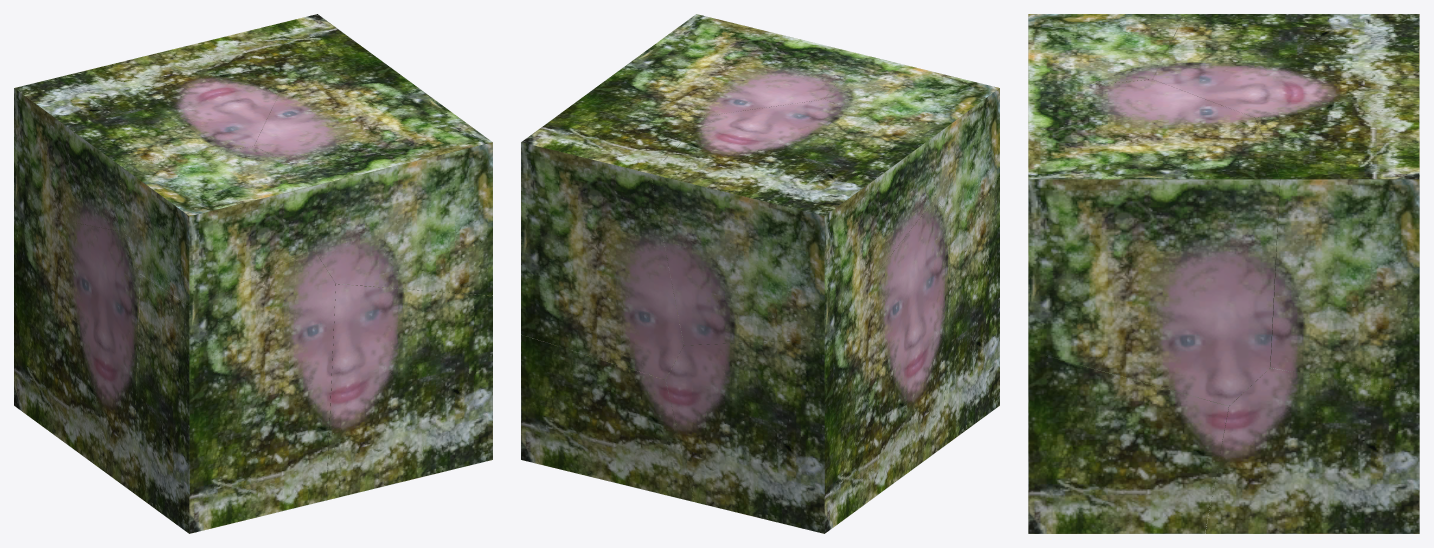
The model's file is guck_cube_pieces.glb.
3 views of the same model, side by side, from view 1: azimuth 30°, elevation 25°; view 2: azimuth 150°, elevation 25°; view 3: azimuth 270°, elevation 25° (orthographic). The views are drawn at different scales.
Visible parts, largest first — view 1: skin_cell.007, skin_cell.004, skin_cell.005, skin_cell.006, skin_cell.001, skin_cell, skin_cell.002; view 2: skin_cell.001, skin_cell.006, skin_cell.002, skin_cell.003, skin_cell.004, skin_cell, skin_cell.007; view 3: skin_cell.004, skin_cell.002, skin_cell.003, skin_cell.005, skin_cell.006, skin_cell.
Boxes of the visible parts, x1,y1,x2,y2 form: skin_cell.007: (132, 250, 335, 533); skin_cell.004: (254, 60, 492, 295); skin_cell.005: (326, 284, 492, 500); skin_cell.006: (14, 45, 278, 231); skin_cell.001: (14, 211, 140, 491); skin_cell: (119, 146, 329, 305); skin_cell.002: (188, 14, 379, 95); skin_cell.001: (665, 198, 950, 533); skin_cell.006: (651, 99, 935, 345); skin_cell.002: (521, 96, 706, 379); skin_cell.003: (521, 334, 694, 501); skin_cell.004: (584, 14, 858, 115); skin_cell: (824, 53, 999, 216); skin_cell.007: (943, 178, 999, 446); skin_cell.004: (1028, 79, 1279, 405); skin_cell.002: (1255, 108, 1419, 393); skin_cell.003: (1205, 368, 1419, 533); skin_cell.005: (1028, 351, 1228, 533); skin_cell.006: (1152, 14, 1419, 117); skin_cell: (1028, 14, 1184, 90).
Bounding box in the file's own units: 4 × 4 × 4.
1 material, 1 textured.
